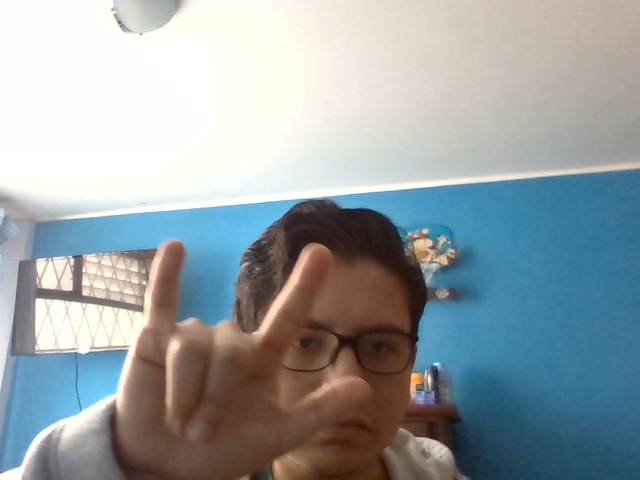amor: (134, 237, 362, 471)
